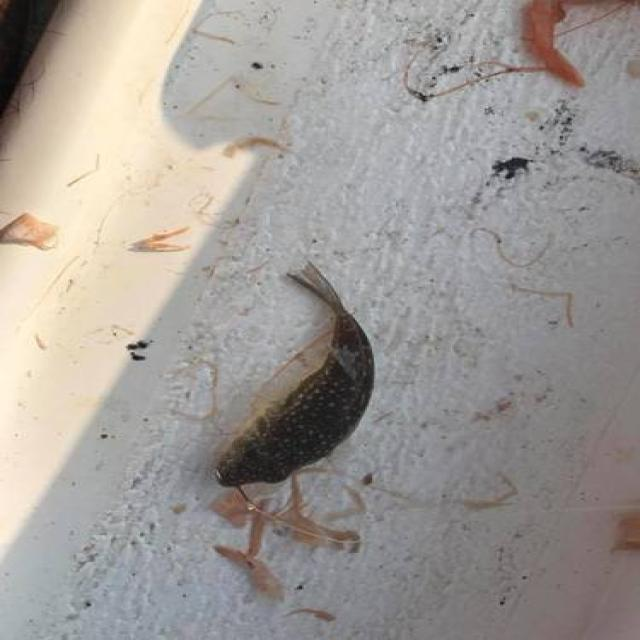Balik: (216, 263, 375, 486)
